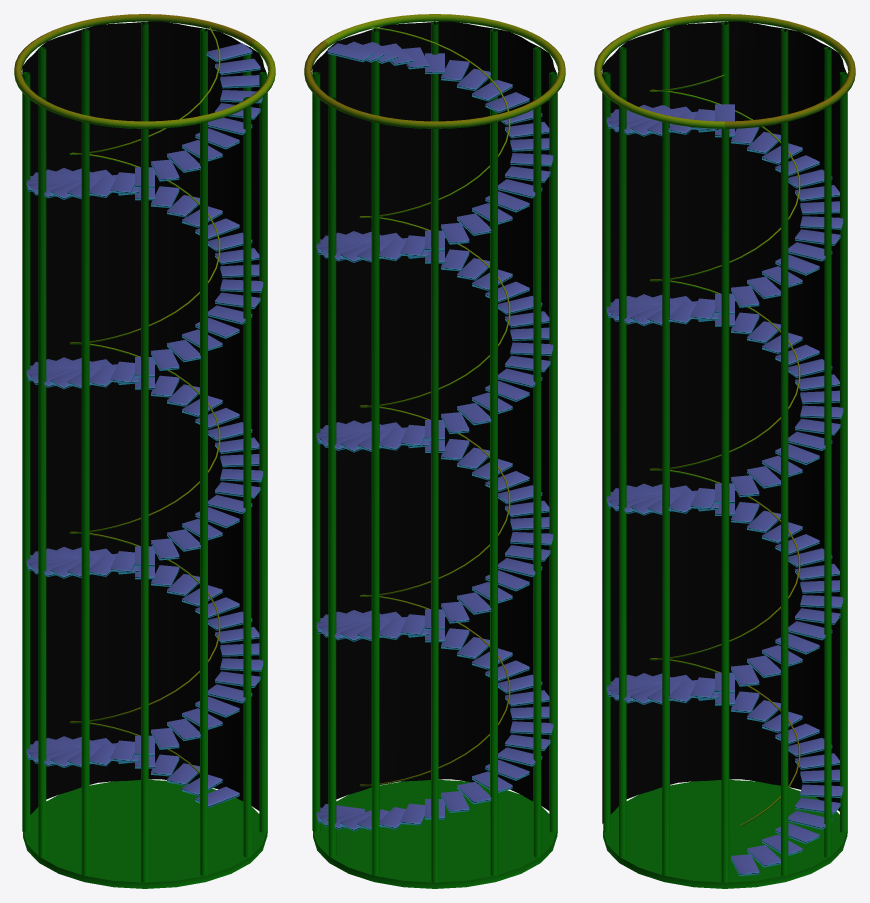
Rendered from well_shaft.glb.
The picture shows the model from 3 angles, left to right: view 1: azimuth 30°, elevation 25°; view 2: azimuth 150°, elevation 25°; view 3: azimuth 270°, elevation 25°; orthographic projection.
Parts seen in each view (by area): view 1: well_shaft; view 2: well_shaft; view 3: well_shaft.
Boxes of the visible parts, left/top/right/bottom form: well_shaft: left=14, top=14, right=275, bottom=888; well_shaft: left=304, top=14, right=565, bottom=888; well_shaft: left=594, top=14, right=855, bottom=888.
Size of what is drawn, in the model's own units: 7.51 by 25.17 by 7.51.
